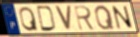D: (35, 5, 57, 33)
N: (111, 5, 135, 30)
Q: (94, 5, 116, 31), (19, 6, 40, 32)
R: (73, 5, 97, 32)
V: (54, 5, 73, 31)
